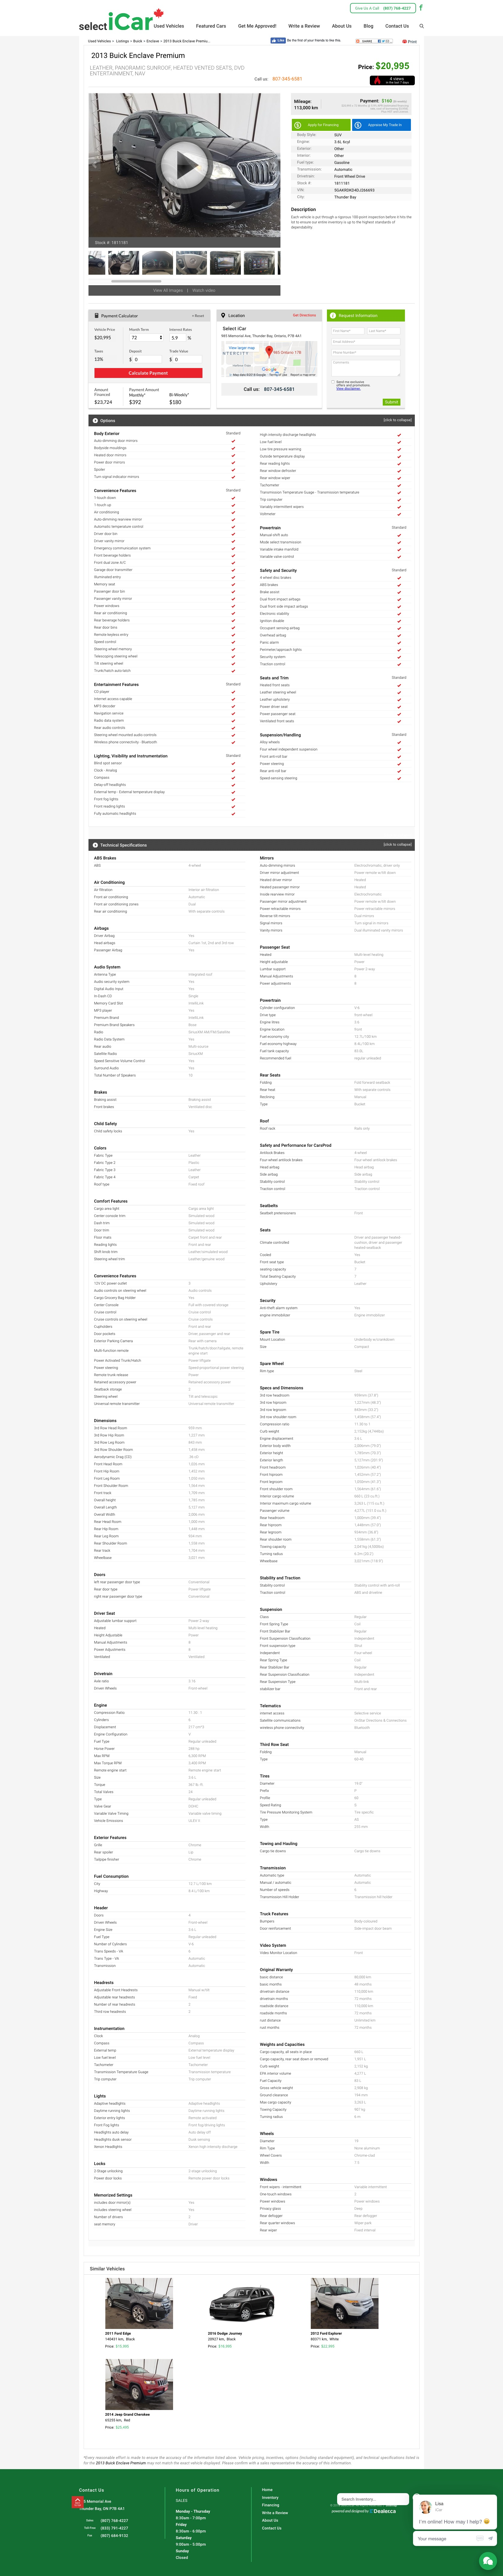car: (273, 161, 278, 169)
